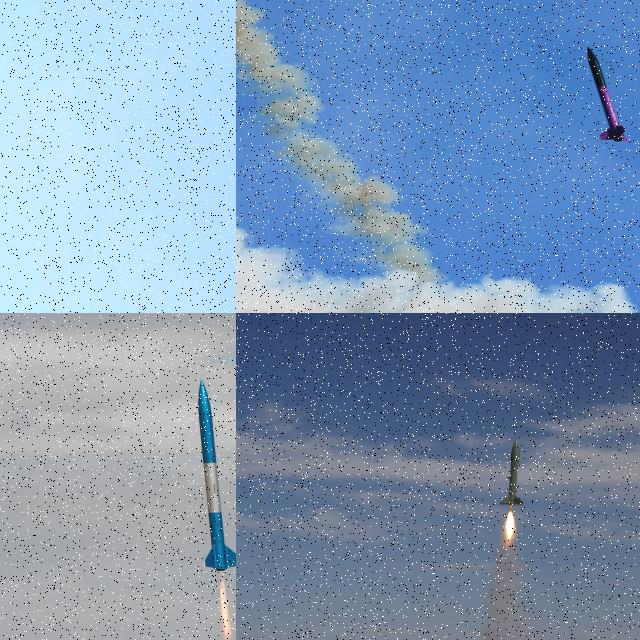Rocket: (196, 379, 236, 572), (586, 45, 630, 144), (500, 439, 524, 506)
